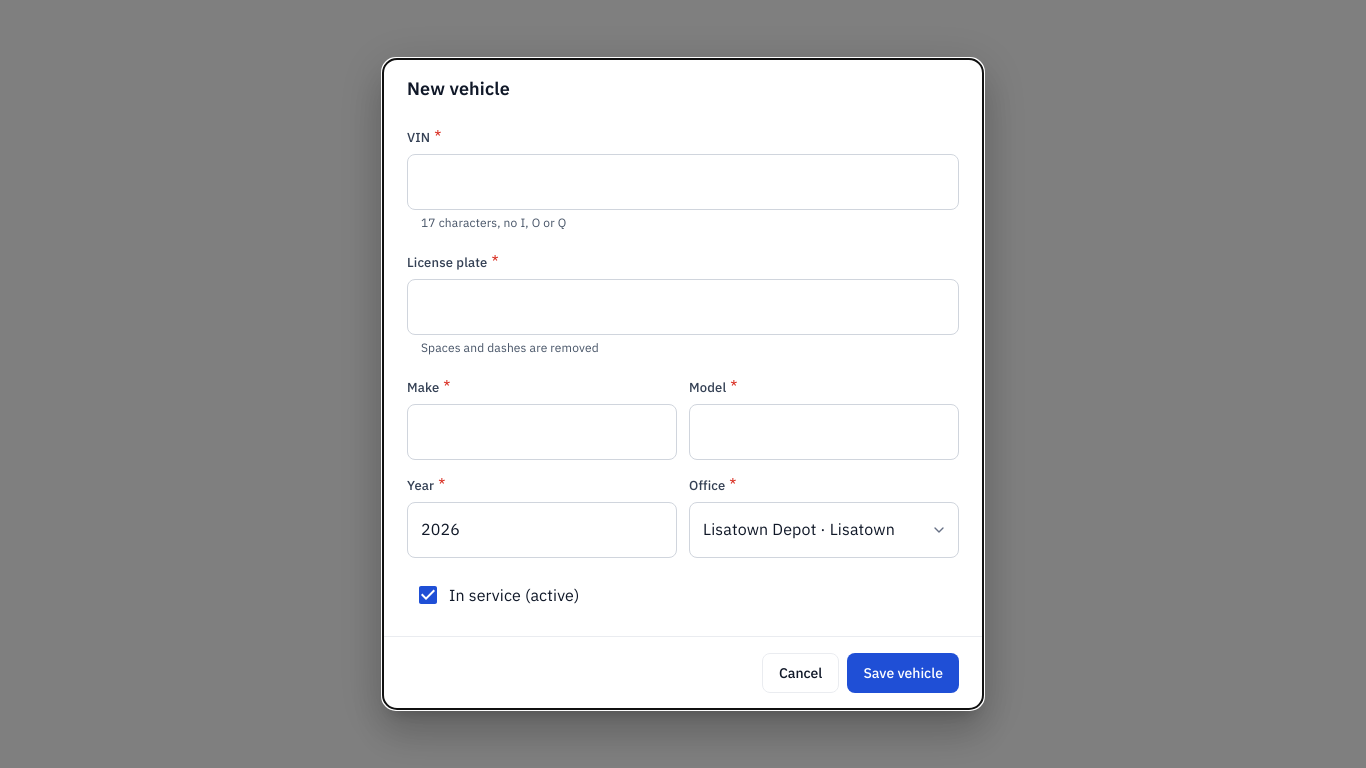
VehicleFormDialog › previews the plate exactly as the API will store it
Type "qa-77 58" into the field labelled "License plate *" at {"x": 683, "y": 307}, box top-left (407, 279), bottom-right (959, 335)
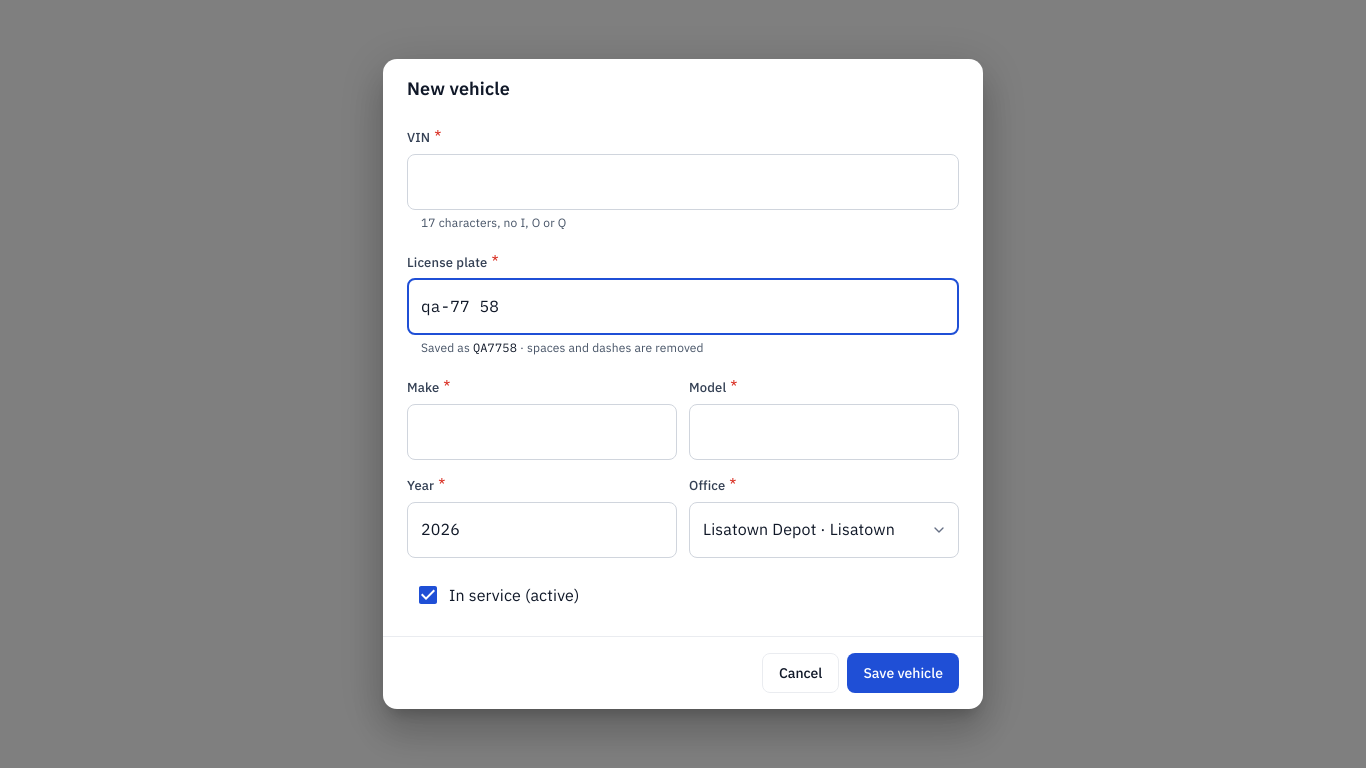
Expected: the text "Saved as QA7758 · spaces and dashes are removed" is shown, top-left (421, 340), bottom-right (704, 355)
